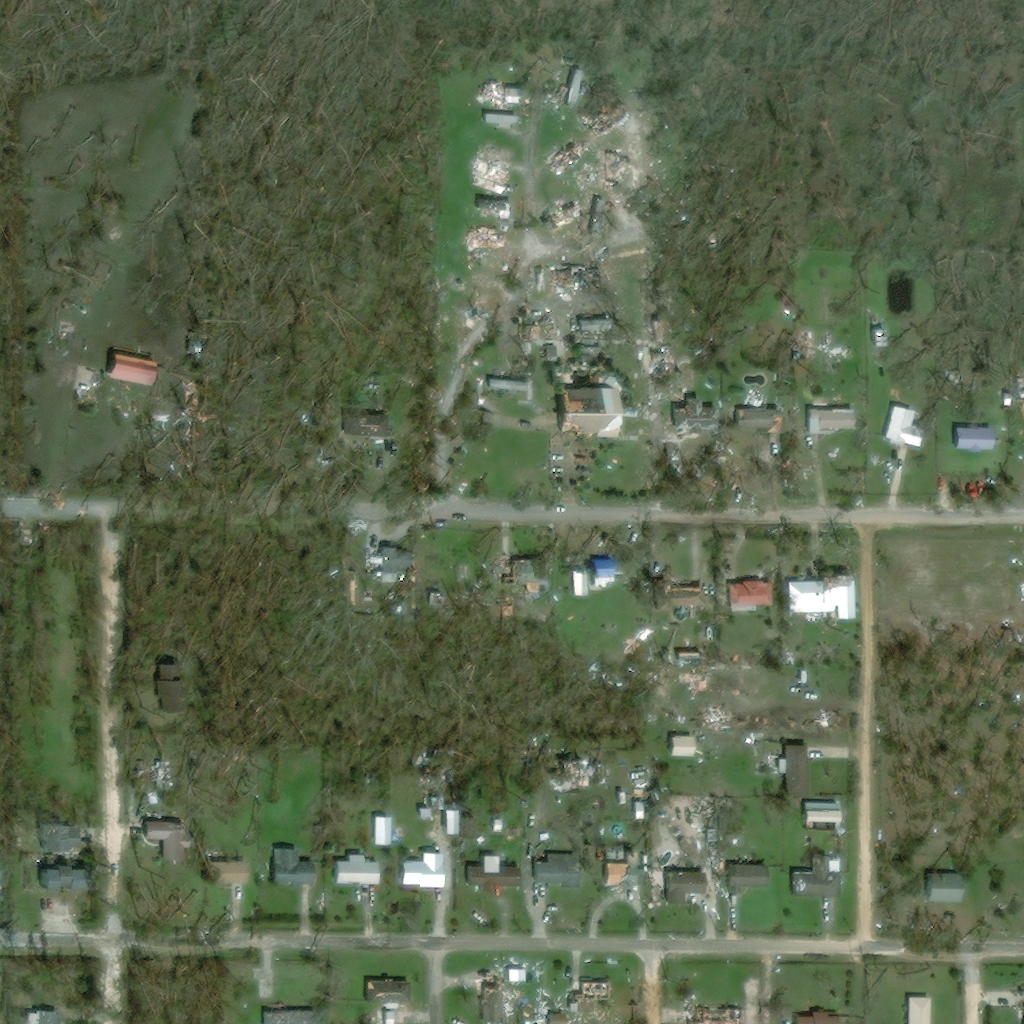destroyed: (541, 332, 604, 361), (591, 150, 618, 213), (587, 104, 628, 138), (547, 139, 583, 172), (648, 343, 672, 388), (543, 204, 581, 232), (557, 758, 583, 788), (688, 1008, 738, 1023), (470, 231, 509, 250), (73, 367, 96, 398), (484, 150, 517, 168), (799, 333, 821, 358), (137, 770, 170, 786), (518, 323, 541, 345), (59, 321, 78, 335), (825, 353, 839, 370), (597, 765, 606, 786), (406, 802, 419, 816)
major_damage: (555, 386, 619, 439), (787, 574, 852, 619), (499, 559, 553, 590), (570, 981, 611, 1014), (558, 69, 584, 107), (480, 980, 504, 1021), (485, 85, 525, 105), (477, 198, 511, 219)
minor_damage: (792, 854, 841, 898), (467, 857, 523, 891), (674, 393, 719, 434), (647, 581, 705, 612), (107, 347, 151, 386), (737, 392, 782, 428), (535, 854, 580, 888), (667, 871, 707, 904), (366, 980, 409, 1010), (783, 744, 808, 791), (727, 580, 769, 607), (730, 864, 767, 894), (36, 824, 75, 851), (604, 857, 639, 887), (998, 376, 1023, 414), (802, 800, 840, 824), (929, 872, 960, 901), (871, 322, 892, 362), (135, 821, 174, 839), (365, 546, 389, 574), (265, 1010, 316, 1023), (485, 112, 518, 130), (592, 566, 615, 588), (574, 571, 591, 596), (34, 1011, 56, 1023), (380, 1014, 409, 1023), (549, 1015, 566, 1023)
no_damage: (884, 407, 924, 447), (400, 853, 444, 888), (272, 850, 312, 888), (808, 401, 854, 434), (335, 854, 377, 886), (952, 426, 992, 450), (488, 370, 531, 392), (212, 861, 247, 887), (40, 864, 70, 894), (906, 998, 931, 1023), (794, 1012, 839, 1023), (671, 737, 696, 755), (376, 816, 392, 844), (460, 817, 476, 841)
